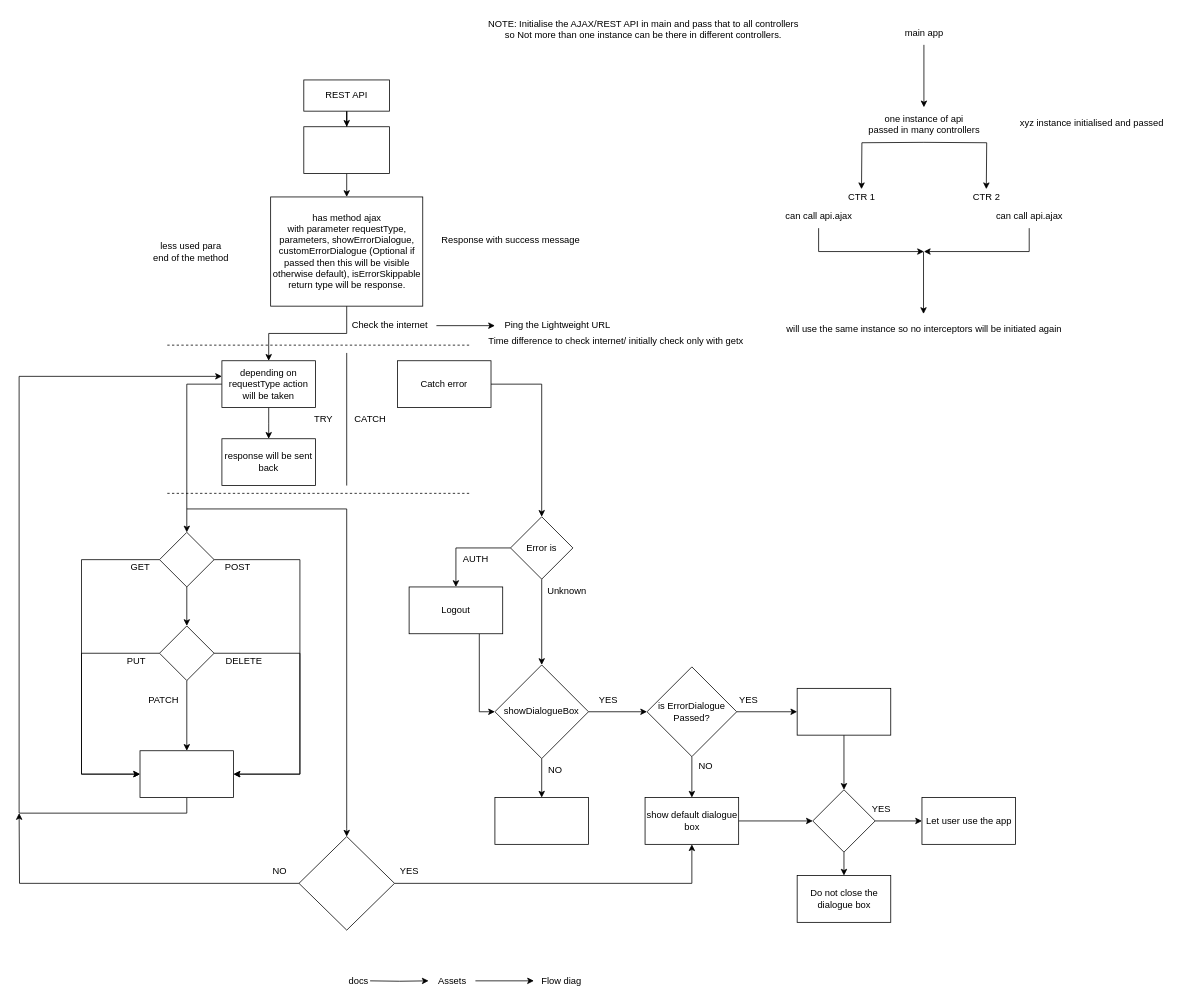
Some shapes in this 1187 by 1005 pixel diagram are drawn without their labels. The shapes that lost their labels are listed below. From the top down, each one's centre as x and y in pixels, then its label:
At [346,150]: "Constructor initialise cookie jar, interceptors".
At [843,711]: "show custom passed error dialogue".
At [186,774]: "SEND Response back".
At [541,820]: "END".
At [843,820]: "isSkippable".
At [346,883]: "Takes more time than fixed timeout".
